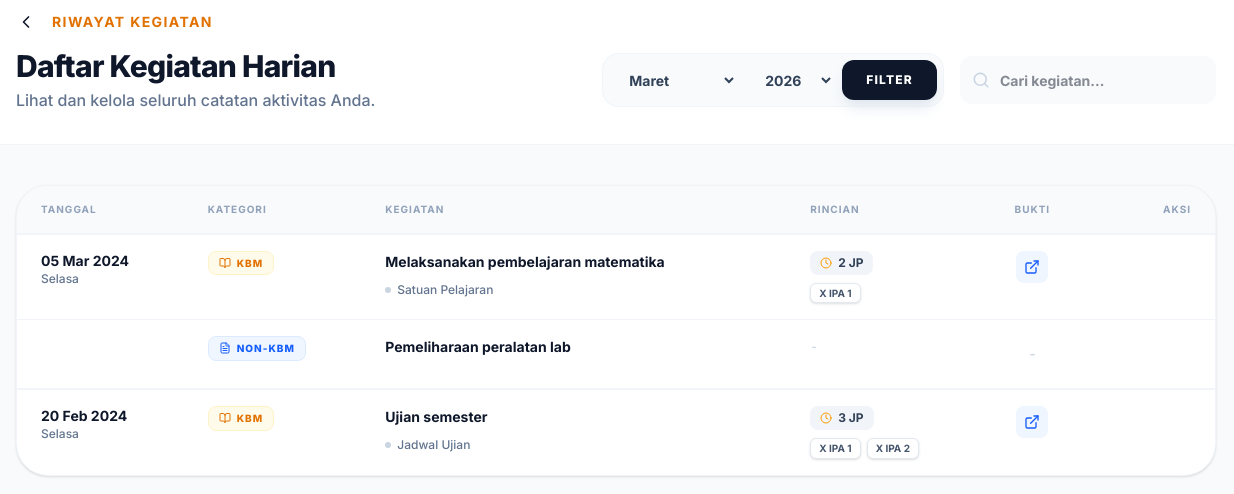
Test: ActivitiesClient › should handle search clearing and show all activities
This screenshot has width=1234, height=494.
# Type search
Step 1. Type "matematika" into the field with placeholder "Cari kegiatan..." → [1088, 80], box [960, 56, 1216, 104]
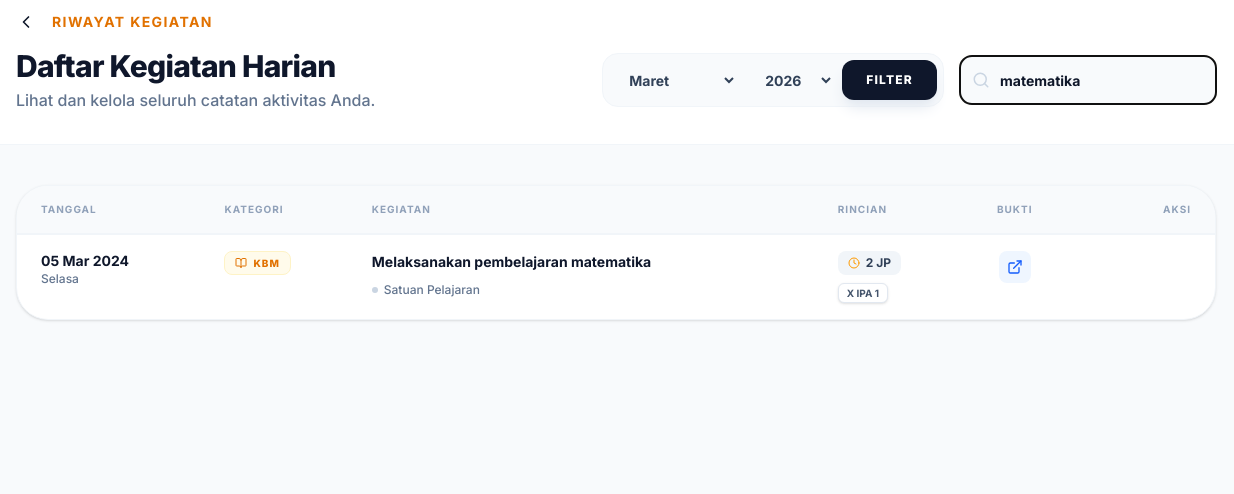
# Clear search
Step 2. Clear the field with placeholder "Cari kegiatan..." → [1088, 80], box [960, 56, 1216, 104]
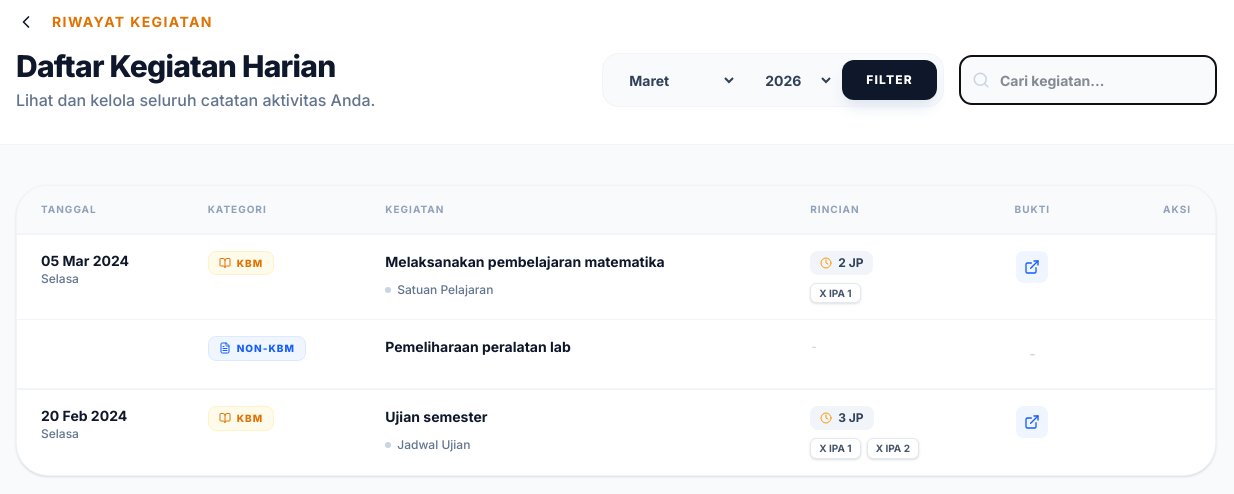
expect the text "Melaksanakan pembelajaran matematika" is shown: met, box [385, 253, 665, 270]
expect the text "Pemeliharaan peralatan lab" is shown: met, box [385, 338, 571, 355]
expect the text "Ujian semester" is shown: met, box [385, 408, 488, 425]
